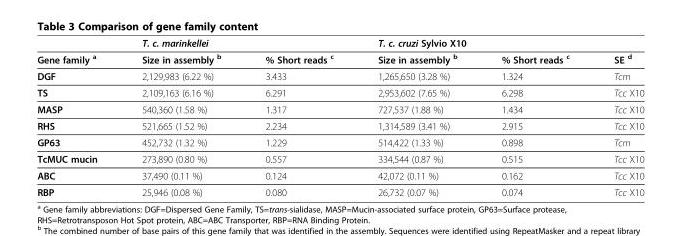table: (36, 36, 643, 197)
table column: (118, 36, 242, 197), (355, 36, 478, 197), (242, 36, 355, 197), (478, 36, 591, 197), (36, 36, 118, 197), (591, 36, 643, 197)
table column header: (36, 36, 643, 67)
table row: (36, 50, 643, 67), (36, 67, 643, 84), (36, 100, 643, 117), (36, 133, 643, 150), (36, 166, 643, 183), (36, 84, 643, 100), (36, 117, 643, 133), (36, 150, 643, 166), (36, 36, 643, 50), (36, 183, 643, 197)
table spanning cell: (118, 36, 355, 50), (355, 36, 591, 50), (36, 36, 118, 67), (591, 36, 643, 67)
